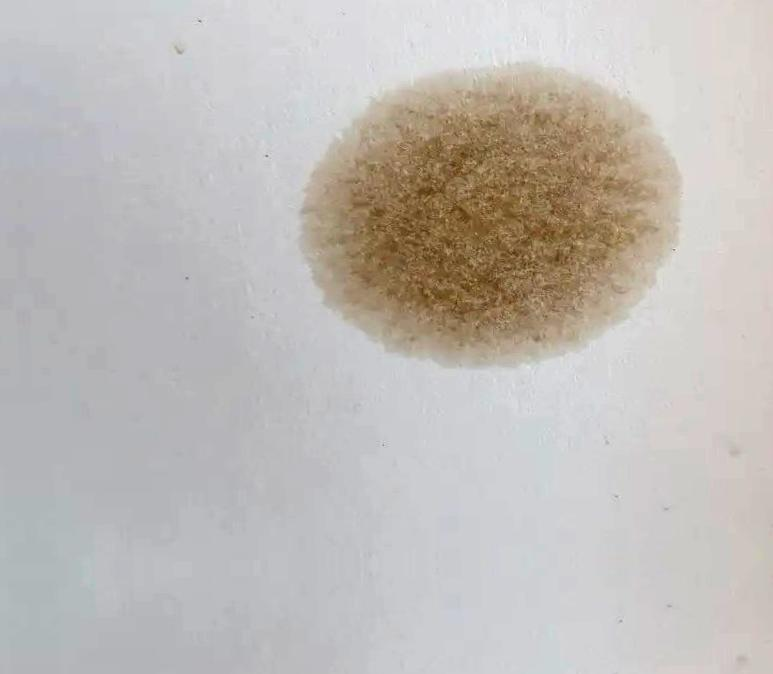stain: (297, 58, 696, 375)
